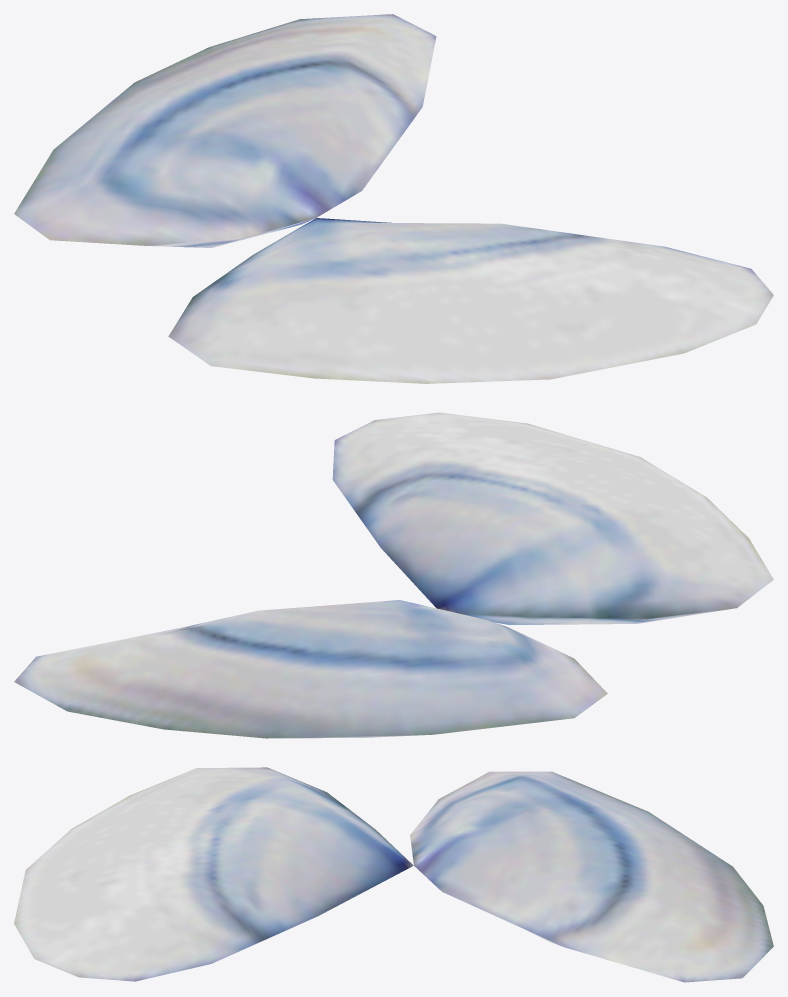
Rendered from SeaShell-10_LOD0_newsmall.glb.
The picture shows the model from 3 angles, top to bottom: view 1: azimuth 30°, elevation 25°; view 2: azimuth 150°, elevation 25°; view 3: azimuth 270°, elevation 25°; orthographic projection. The views are drawn at different scales.
Parts seen in each view (by area): view 1: SeaShell-10_high; view 2: SeaShell-10_high; view 3: SeaShell-10_high.
Boxes of the visible parts, x1,y1,x2,y2 form: SeaShell-10_high: (14, 14, 773, 383); SeaShell-10_high: (14, 412, 773, 738); SeaShell-10_high: (14, 767, 773, 982).
Size of the model in its own units: 0.08 by 0.0147 by 0.1194.
Materials: 1 (1 with a texture image).
